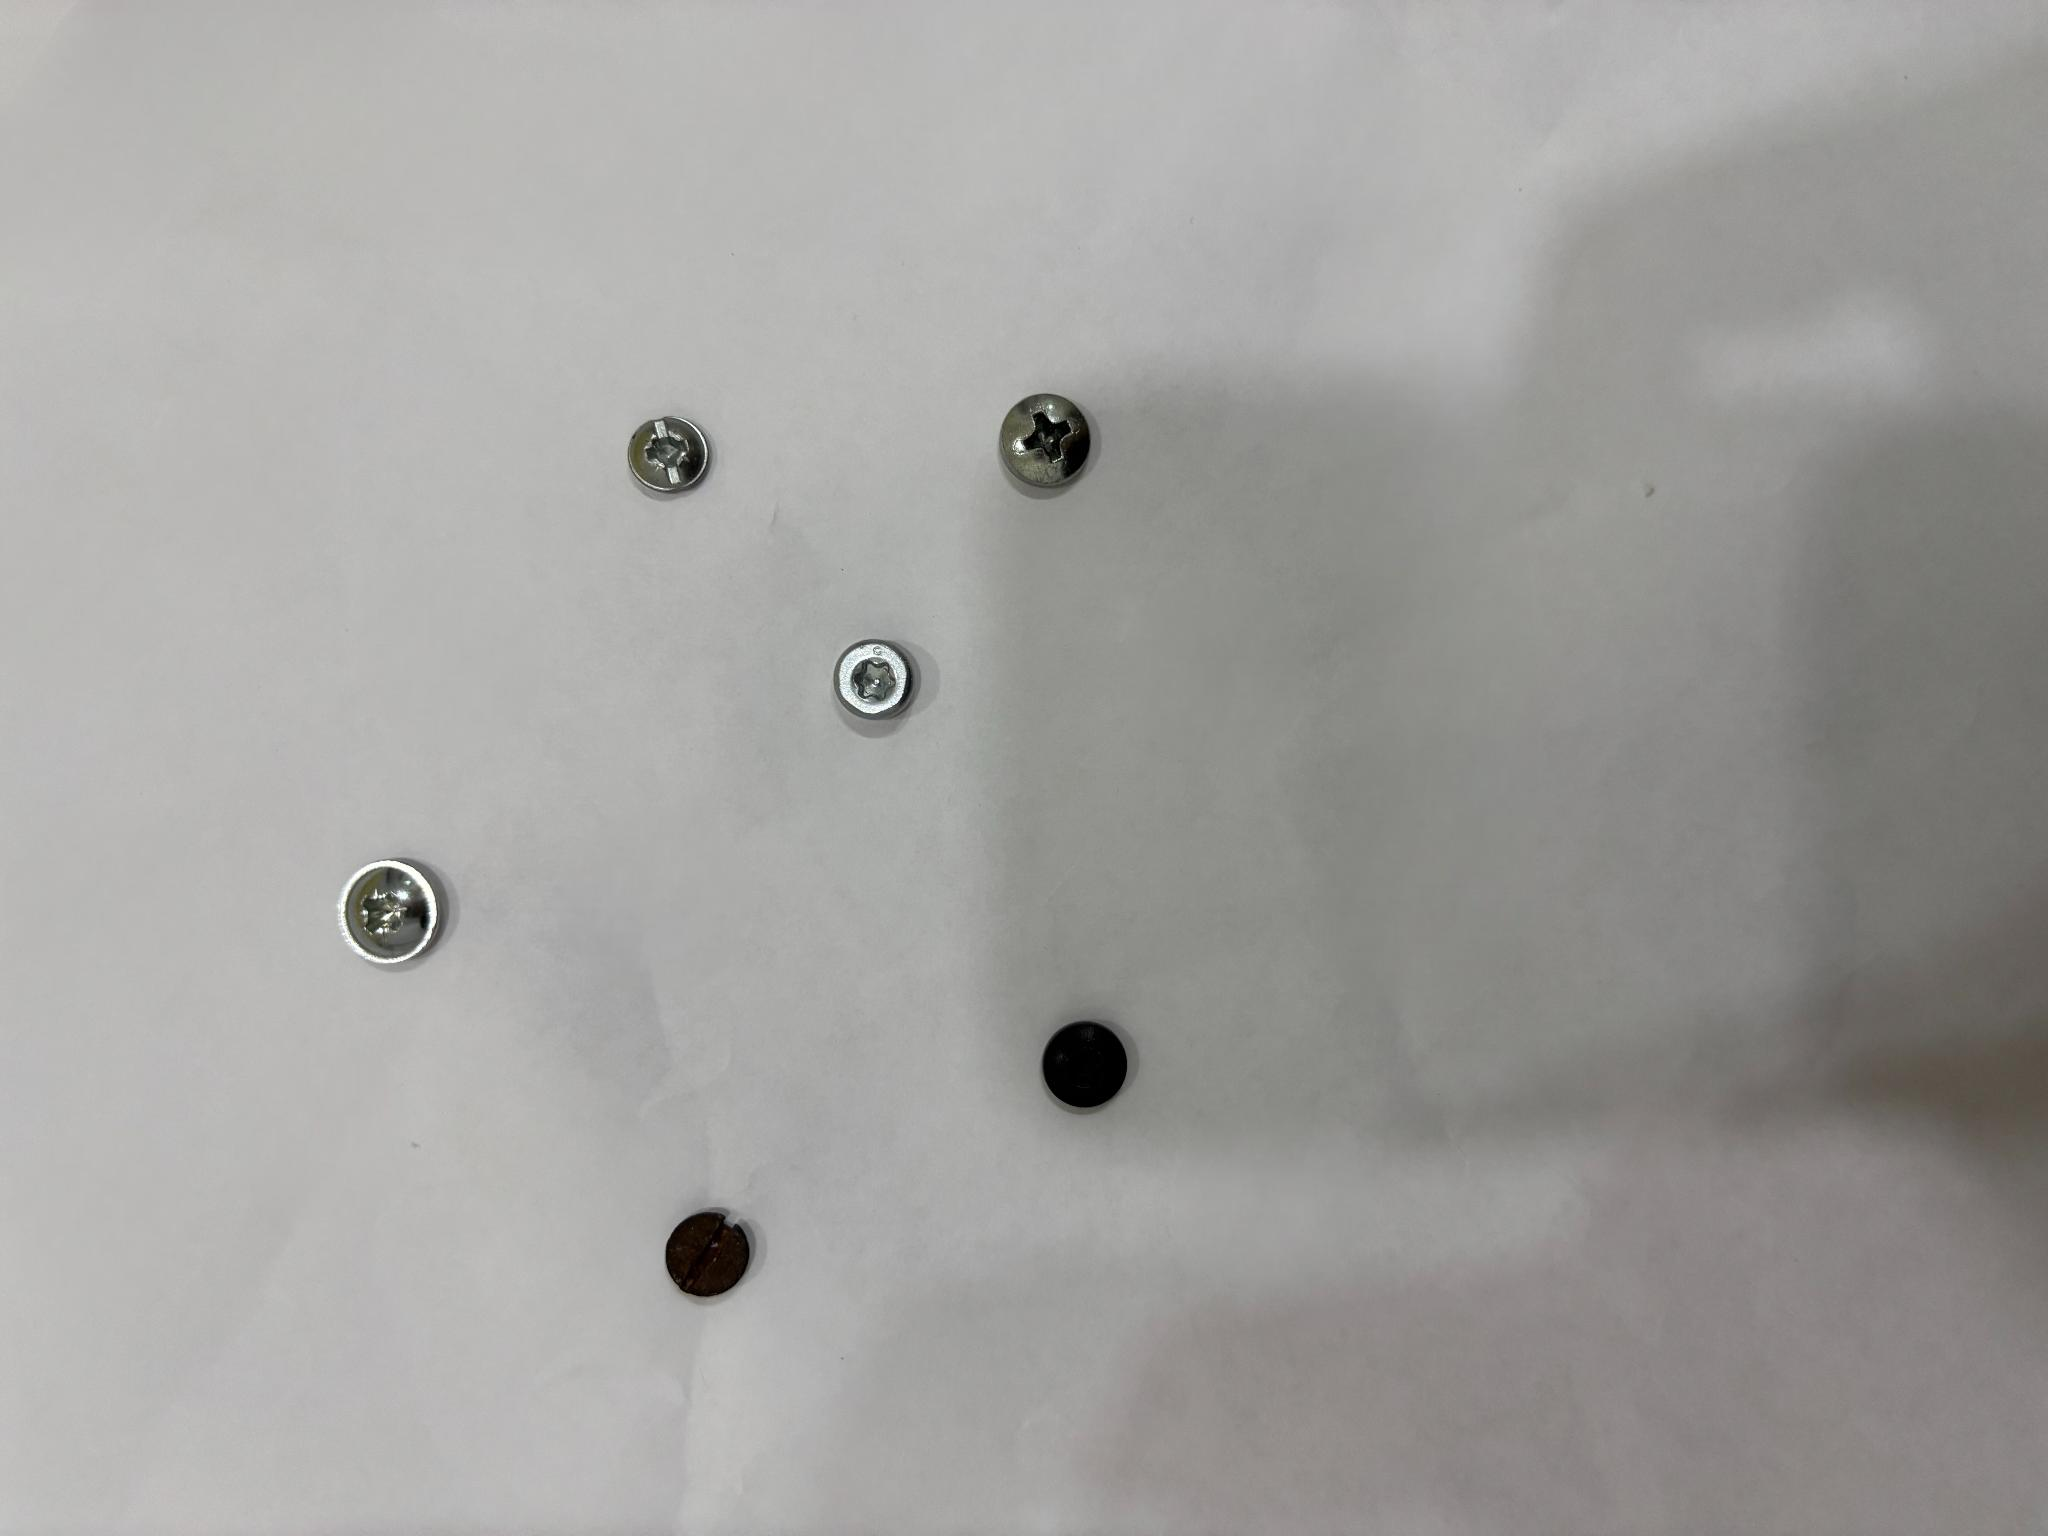H: (1043, 1021, 1127, 1107)
PH: (1000, 394, 1092, 489)
PZ: (337, 858, 445, 966), (627, 416, 710, 494)
SL: (664, 1210, 750, 1297)
T: (834, 641, 916, 720)
